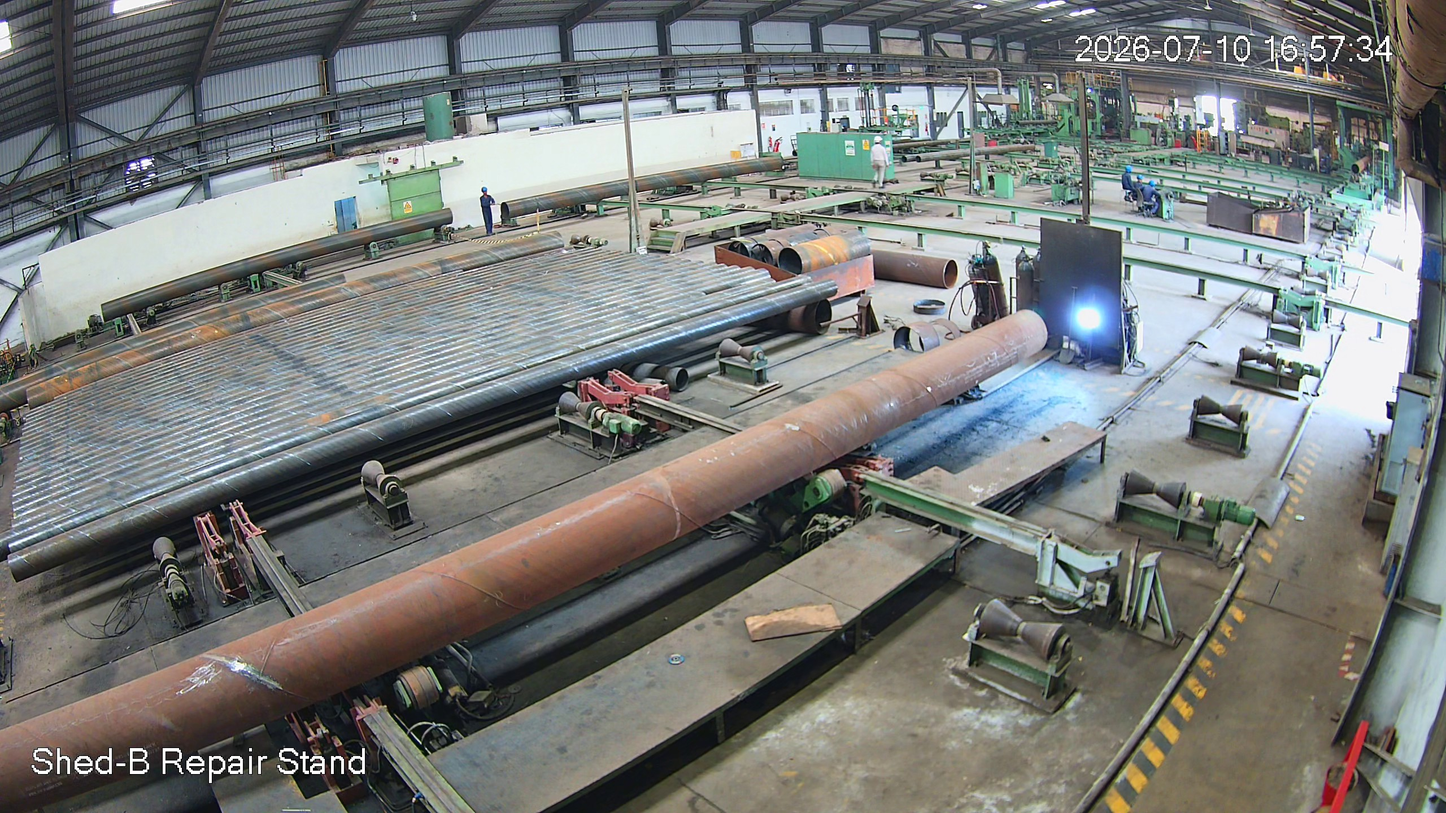Helmet: (872, 134, 884, 148)
Person: (870, 136, 888, 189)
